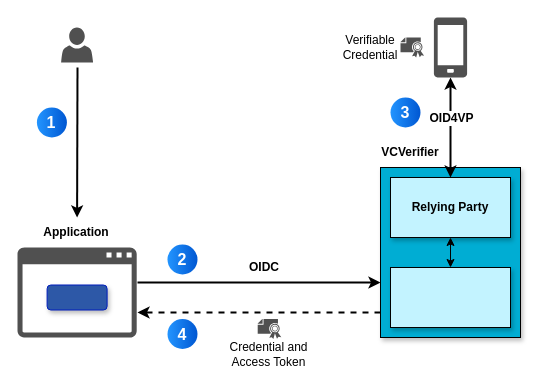
This 544x386 diagram has some shape labels left out. The shapes that lost their labels are listed below. From the top down, each one's centre as x and y in pixels, then its label:
At point (77, 298): "Login".
At point (451, 298): "OpenID Provider".
